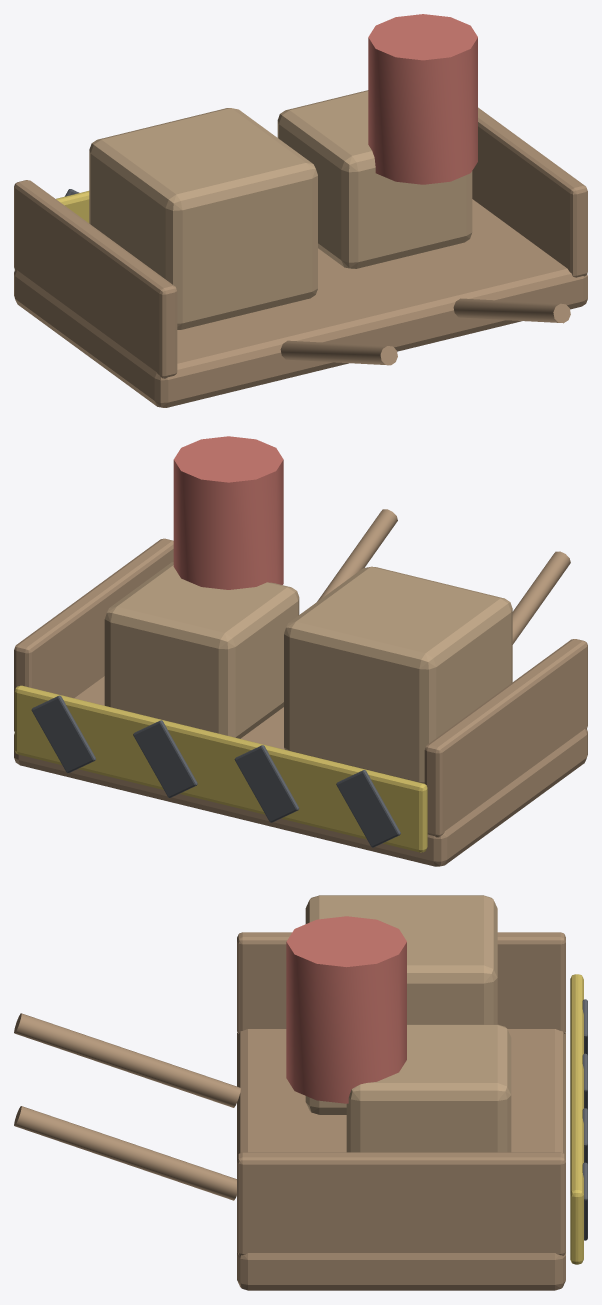
The model's file is cart.glb.
The picture shows the model from 3 angles, top to bottom: view 1: azimuth 30°, elevation 25°; view 2: azimuth 150°, elevation 25°; view 3: azimuth 270°, elevation 25°; orthographic projection. The views are drawn at different scales.
Visible parts, largest first — view 1: cart_Palette; view 2: cart_Palette; view 3: cart_Palette.
Boxes of the visible parts, x1,y1,x2,y2 form: cart_Palette: [14, 14, 587, 407]; cart_Palette: [14, 436, 587, 866]; cart_Palette: [14, 895, 587, 1290].
Bounding box in the file's own units: 2 × 1.17 × 2.09.
